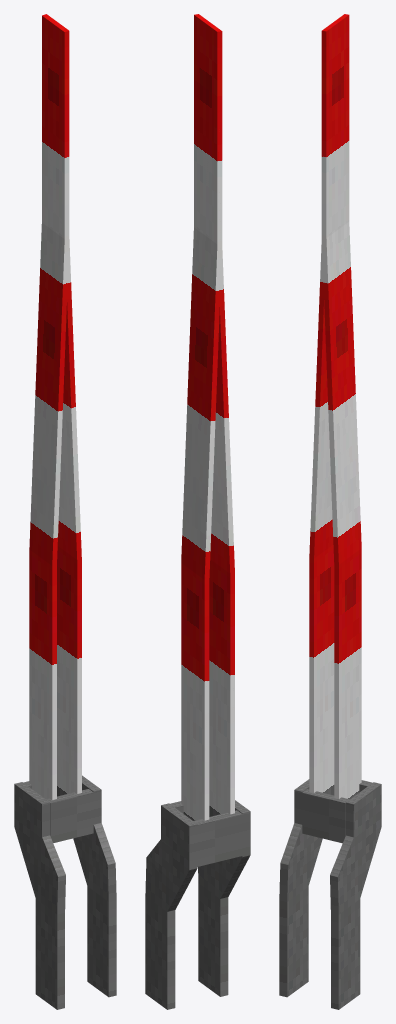
File: Barrier_1.obj
3 renders of one model, left to right at view 1: azimuth 30°, elevation 25°; view 2: azimuth 210°, elevation 25°; view 3: azimuth 330°, elevation 25°, orthographic. The views are drawn at different scales.
Visible parts, largest first — view 1: Barrier; view 2: Barrier; view 3: Barrier.
Part boxes in pixels (x1,y1,x2,y2): Barrier: (14, 14, 116, 1009); Barrier: (145, 14, 250, 1009); Barrier: (279, 14, 381, 1009).
Size of the model in its own units: 0.301 by 4.63 by 0.3755.
Materials: 1 (1 with a texture image).
